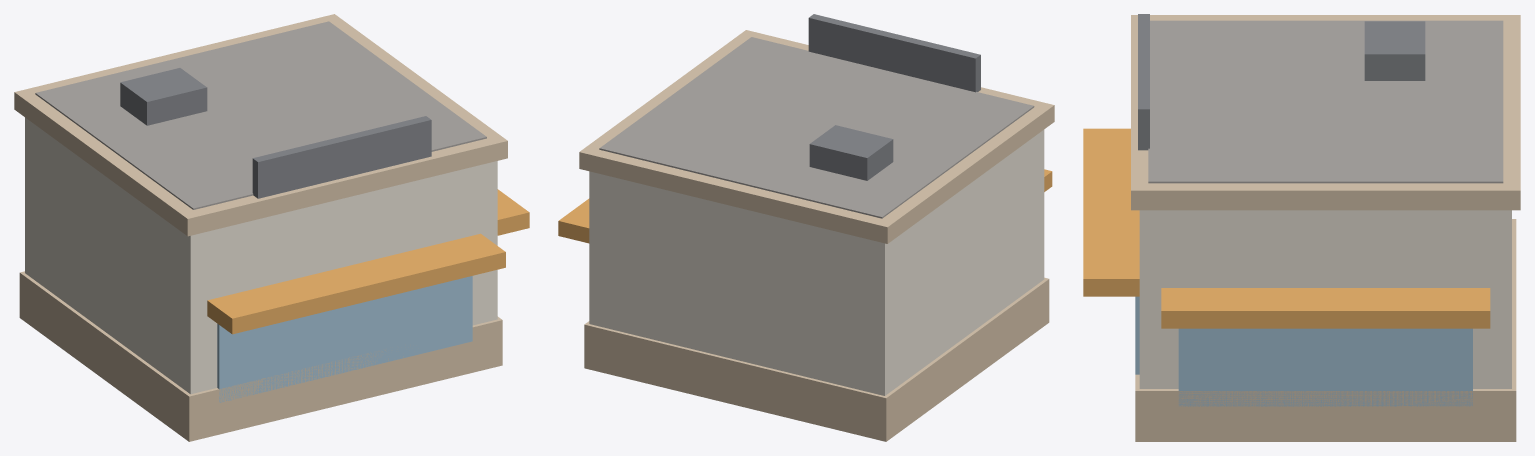
Rendered from bldg_corner_shop.glb.
The picture shows the model from 3 angles, left to right: view 1: azimuth 30°, elevation 25°; view 2: azimuth 150°, elevation 25°; view 3: azimuth 270°, elevation 25°; orthographic projection. The views are drawn at different scales.
Visible parts, largest first — view 1: bldg_corner_shop; view 2: bldg_corner_shop; view 3: bldg_corner_shop.
Part boxes in pixels (x1,y1,x2,y2): bldg_corner_shop: [14, 14, 529, 441]; bldg_corner_shop: [558, 14, 1054, 441]; bldg_corner_shop: [1083, 14, 1520, 441].
Size of the model in its own units: 10.65 by 7.5 by 10.1.
